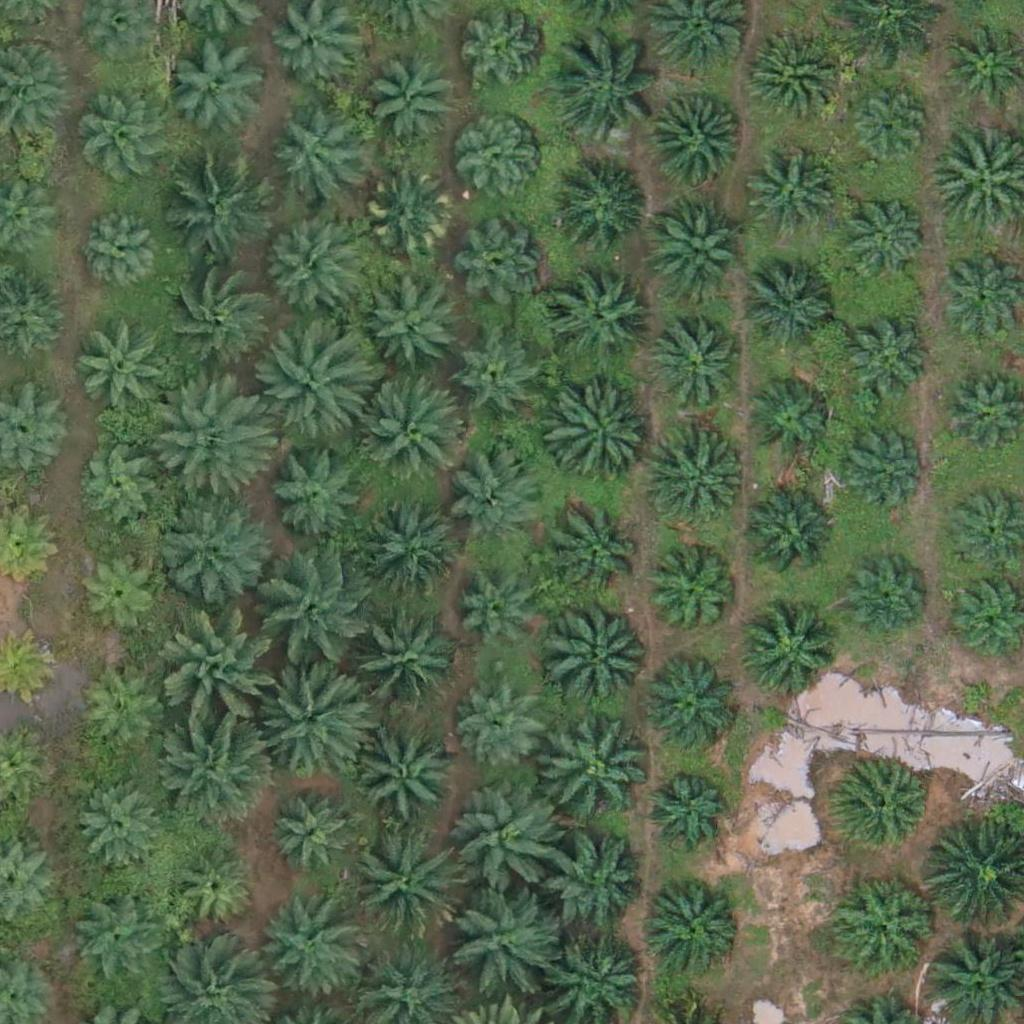Kelapa_Sawit: (444, 880, 557, 994), (345, 609, 458, 723), (346, 828, 459, 941), (552, 36, 665, 149), (538, 711, 651, 824), (262, 555, 375, 668), (161, 713, 274, 826), (451, 786, 564, 899), (544, 596, 656, 710), (261, 332, 373, 446), (167, 617, 279, 731), (162, 156, 274, 270), (250, 896, 362, 1009), (358, 378, 470, 491), (257, 660, 369, 773), (154, 491, 266, 604), (154, 376, 266, 489), (158, 263, 270, 376), (644, 873, 744, 974), (740, 26, 840, 127), (742, 255, 842, 356), (738, 487, 838, 588), (739, 603, 839, 704), (648, 431, 748, 532), (552, 159, 652, 260), (548, 271, 648, 372), (548, 387, 648, 488), (357, 725, 457, 826), (363, 276, 463, 377), (262, 437, 362, 538), (174, 37, 274, 138), (73, 321, 173, 422), (835, 874, 935, 974), (546, 839, 646, 939), (833, 759, 933, 859), (647, 93, 747, 193), (648, 198, 748, 298), (641, 659, 741, 759), (550, 503, 650, 603), (451, 447, 551, 547), (358, 503, 458, 603), (257, 219, 357, 319), (75, 207, 163, 296), (169, 846, 257, 934), (848, 83, 936, 171), (837, 190, 925, 278), (841, 318, 929, 406), (834, 420, 922, 508), (750, 151, 838, 239), (650, 553, 738, 641), (642, 766, 730, 854), (268, 113, 356, 201), (269, 791, 357, 879), (83, 97, 171, 185), (72, 547, 160, 635), (77, 670, 165, 758), (69, 896, 156, 985), (841, 555, 928, 643), (746, 373, 833, 461), (655, 317, 742, 405), (458, 11, 545, 99), (455, 120, 542, 208), (458, 219, 545, 307), (455, 336, 542, 424), (455, 580, 542, 668), (460, 685, 547, 773), (365, 172, 452, 260), (364, 57, 451, 145), (75, 445, 162, 533), (76, 779, 163, 867)
